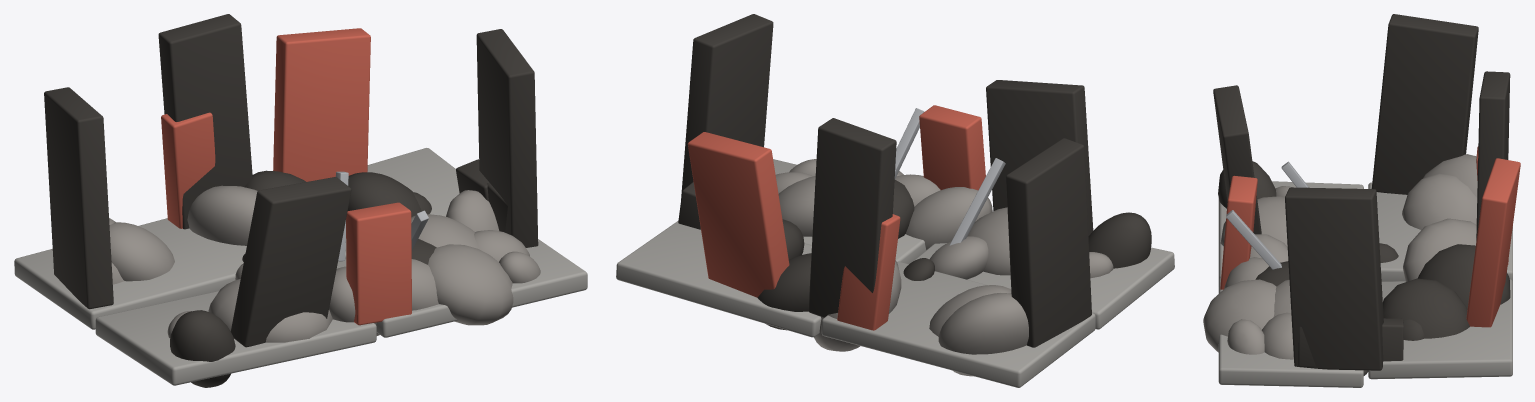
Rendered from building_ruin6x4.glb.
3 views of the same model, side by side, from view 1: azimuth 30°, elevation 25°; view 2: azimuth 150°, elevation 25°; view 3: azimuth 270°, elevation 25° (orthographic). The views are drawn at different scales.
Visible parts, largest first — view 1: Cube.006, Cube.007, Cube.008, Cube.011, Cube.004, Cube, Cube.002, Cube.009, Sphere.009, Cube.001, Cube.010, Sphere.022 (+14 smaller); view 2: Cube.008, Cube.011, Cube.006, Cube.002, Cube.004, Cube.007, Cube.003, Cube.009, Sphere.017, Cube, Cube.010, Sphere.012 (+16 smaller); view 3: Cube.004, Cube.008, Cube.003, Cube.006, Cube.001, Sphere.001, Cube.011, Sphere.003, Sphere.009, Cube.007, Cube.002, Cube.009 (+18 smaller).
Boxes of the visible parts, left/top/right/bottom form: Cube.006: left=273, top=28, right=370, bottom=181; Cube.007: left=230, top=177, right=351, bottom=347; Cube.008: left=44, top=87, right=113, bottom=309; Cube.011: left=158, top=14, right=252, bottom=229; Cube.004: left=476, top=29, right=538, bottom=247; Cube: left=95, top=291, right=376, bottom=385; Cube.002: left=14, top=218, right=246, bottom=329; Cube.009: left=346, top=202, right=411, bottom=325; Sphere.009: left=428, top=244, right=513, bottom=325; Cube.001: left=336, top=239, right=587, bottom=337; Cube.010: left=161, top=112, right=215, bottom=228; Sphere.022: left=187, top=185, right=257, bottom=245; Cube.008: left=1006, top=138, right=1091, bottom=347; Cube.011: left=808, top=118, right=896, bottom=317; Cube.006: left=687, top=132, right=789, bottom=297; Cube.002: left=821, top=261, right=1095, bottom=387; Cube.004: left=681, top=14, right=773, bottom=199; Cube.007: left=986, top=80, right=1093, bottom=236; Cube.003: left=616, top=221, right=821, bottom=337; Cube.009: left=919, top=105, right=985, bottom=190; Sphere.017: left=938, top=293, right=1028, bottom=376; Cube: left=911, top=243, right=1174, bottom=329; Cube.010: left=837, top=214, right=900, bottom=330; Sphere.012: left=905, top=187, right=992, bottom=249; Cube.004: left=1285, top=187, right=1383, bottom=370; Cube.008: left=1371, top=14, right=1478, bottom=194; Cube.003: left=1368, top=279, right=1512, bottom=379; Cube.006: left=1466, top=158, right=1520, bottom=327; Cube.001: left=1218, top=277, right=1363, bottom=387; Sphere.001: left=1382, top=278, right=1469, bottom=338; Cube.011: left=1476, top=71, right=1510, bottom=240; Sphere.003: left=1402, top=173, right=1477, bottom=229; Sphere.009: left=1203, top=279, right=1276, bottom=352; Cube.007: left=1213, top=85, right=1261, bottom=234; Cube.002: left=1368, top=182, right=1512, bottom=281; Cube.009: left=1220, top=175, right=1257, bottom=289.
Size of the model in its own units: 6 by 3.28 by 4.25.
